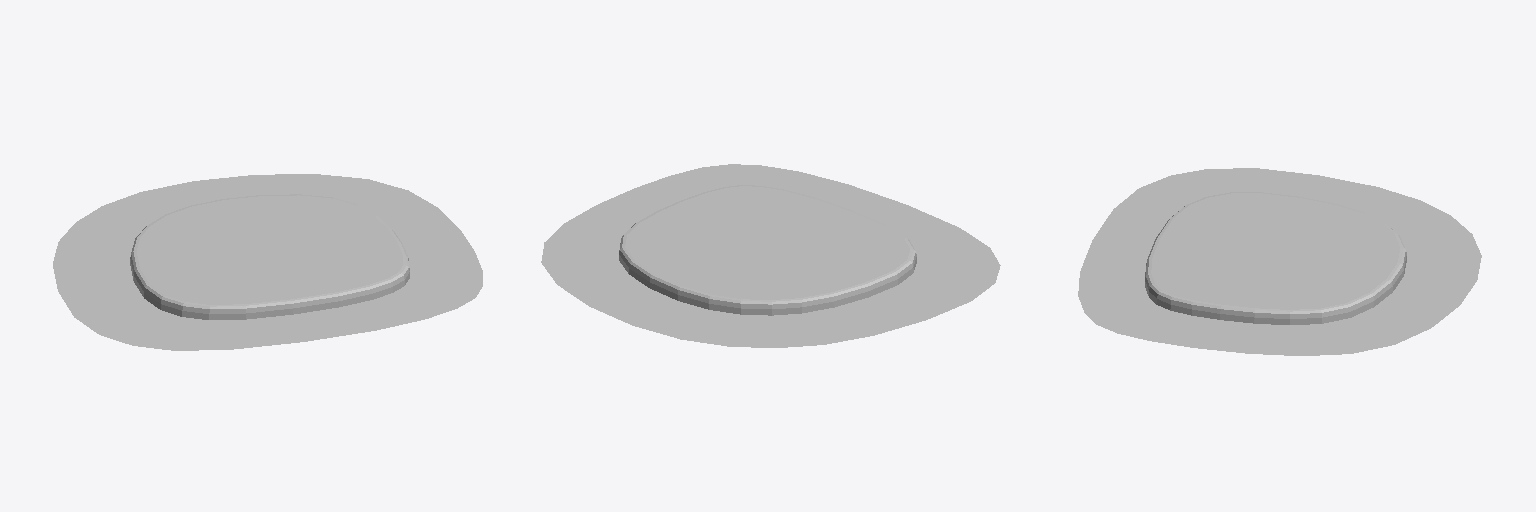
3 renders of one model, left to right at view 1: azimuth 30°, elevation 25°; view 2: azimuth 150°, elevation 25°; view 3: azimuth 270°, elevation 25°, orthographic.
Visible parts, largest first — view 1: 4_foam_Curve.013, 4_Curve.024; view 2: 4_foam_Curve.013, 4_Curve.024; view 3: 4_foam_Curve.013, 4_Curve.024.
Part boxes in pixels (left/top/right/bottom): 4_foam_Curve.013: left=53, top=174, right=482, bottom=350; 4_Curve.024: left=130, top=194, right=409, bottom=319; 4_foam_Curve.013: left=541, top=164, right=1000, bottom=347; 4_Curve.024: left=619, top=185, right=916, bottom=315; 4_foam_Curve.013: left=1078, top=168, right=1481, bottom=355; 4_Curve.024: left=1145, top=192, right=1406, bottom=324.
Size of the model in its own units: 30.71 by 0.9671 by 27.87.